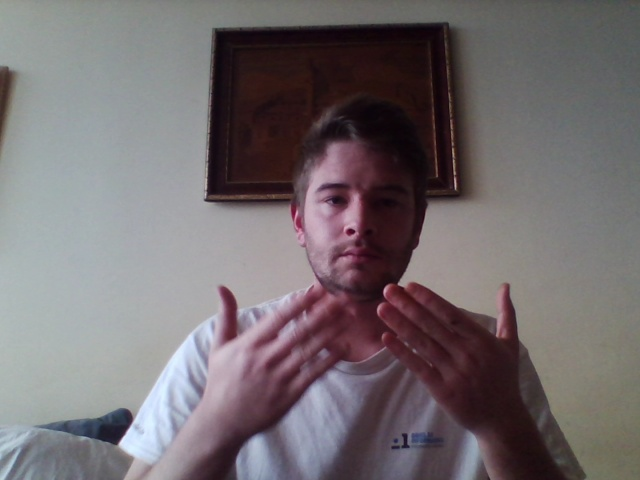hvala: (206, 281, 525, 439)
